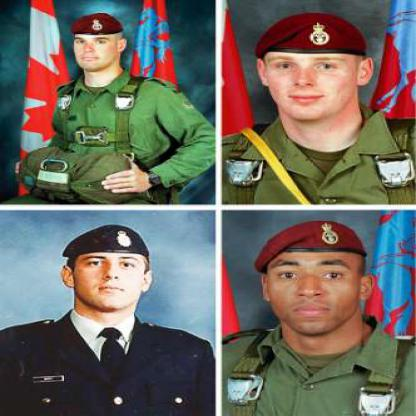face: (265, 225, 364, 335), (264, 15, 362, 123), (76, 226, 150, 310), (71, 16, 120, 75)
